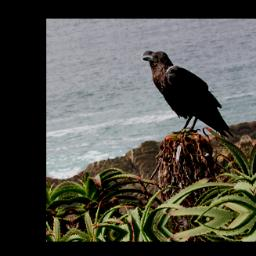Crow: (137, 37, 237, 153)
